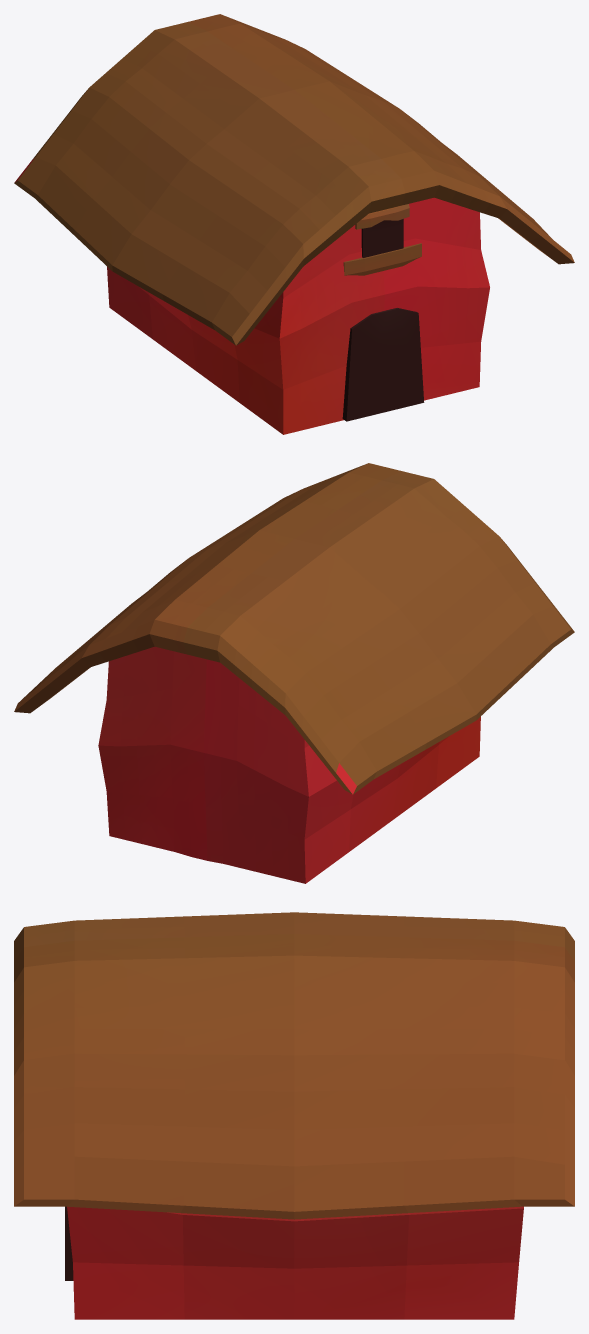
File: SM_Farm_Building_Barn 1.fbx
3 renders of one model, top to bottom at view 1: azimuth 30°, elevation 25°; view 2: azimuth 150°, elevation 25°; view 3: azimuth 270°, elevation 25°, orthographic. The views are drawn at different scales.
Parts seen in each view (by area): view 1: Cube; view 2: Cube; view 3: Cube.
Part boxes in pixels (<box>): Cube: <box>14,14,574,434</box>; Cube: <box>14,463,574,883</box>; Cube: <box>14,912,574,1319</box>.
Bounding box in the file's own units: 1683 × 1141 × 1778.
Materials: 1 (1 with a texture image).
